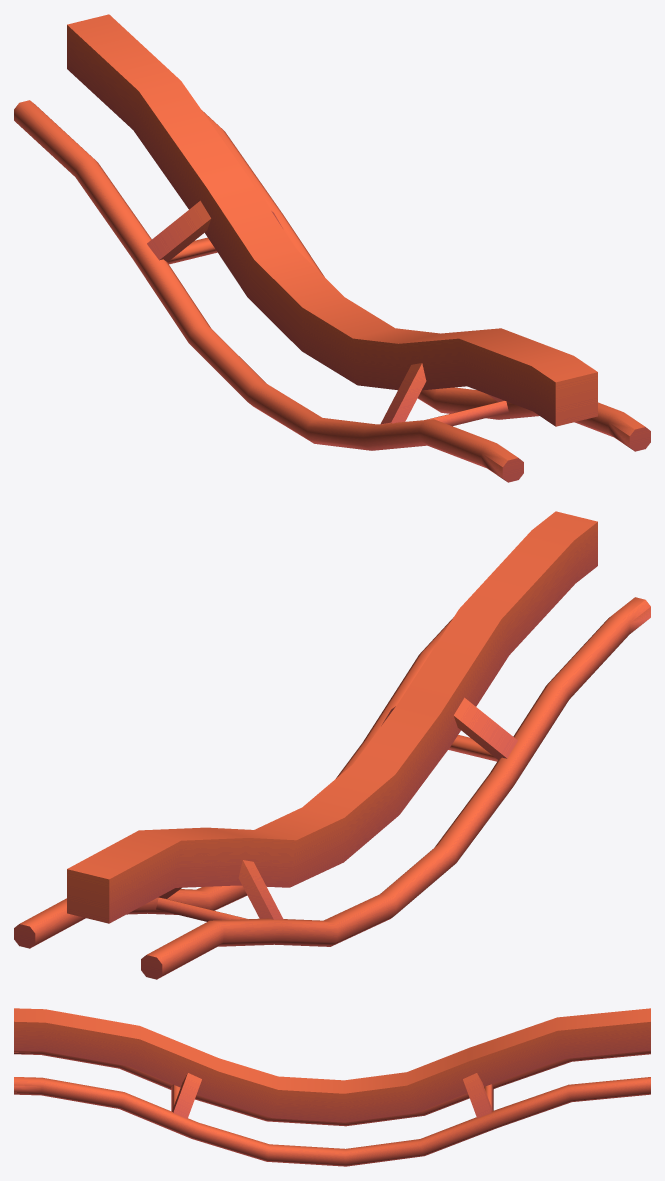
The model's file is coaster-hanging-straight-bump-down.glb.
The picture shows the model from 3 angles, top to bottom: view 1: azimuth 30°, elevation 25°; view 2: azimuth 150°, elevation 25°; view 3: azimuth 270°, elevation 25°; orthographic projection. The views are drawn at different scales.
Parts seen in each view (by area): view 1: coaster-hanging-straight-bump-down; view 2: coaster-hanging-straight-bump-down; view 3: coaster-hanging-straight-bump-down.
Boxes of the visible parts, x1,y1,x2,y2 form: coaster-hanging-straight-bump-down: (14,14,650,482); coaster-hanging-straight-bump-down: (14,511,650,979); coaster-hanging-straight-bump-down: (14,1008,650,1166).
Bounding box in the file's own units: 2.1 × 2.7 × 12.
1 material, 1 textured.
